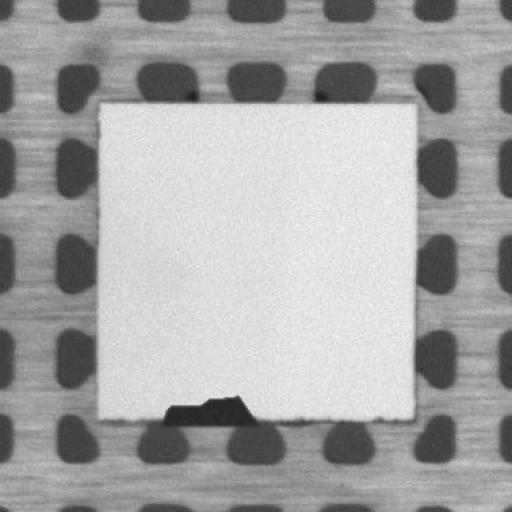DIE_BROKEN: (161, 392, 255, 423)
